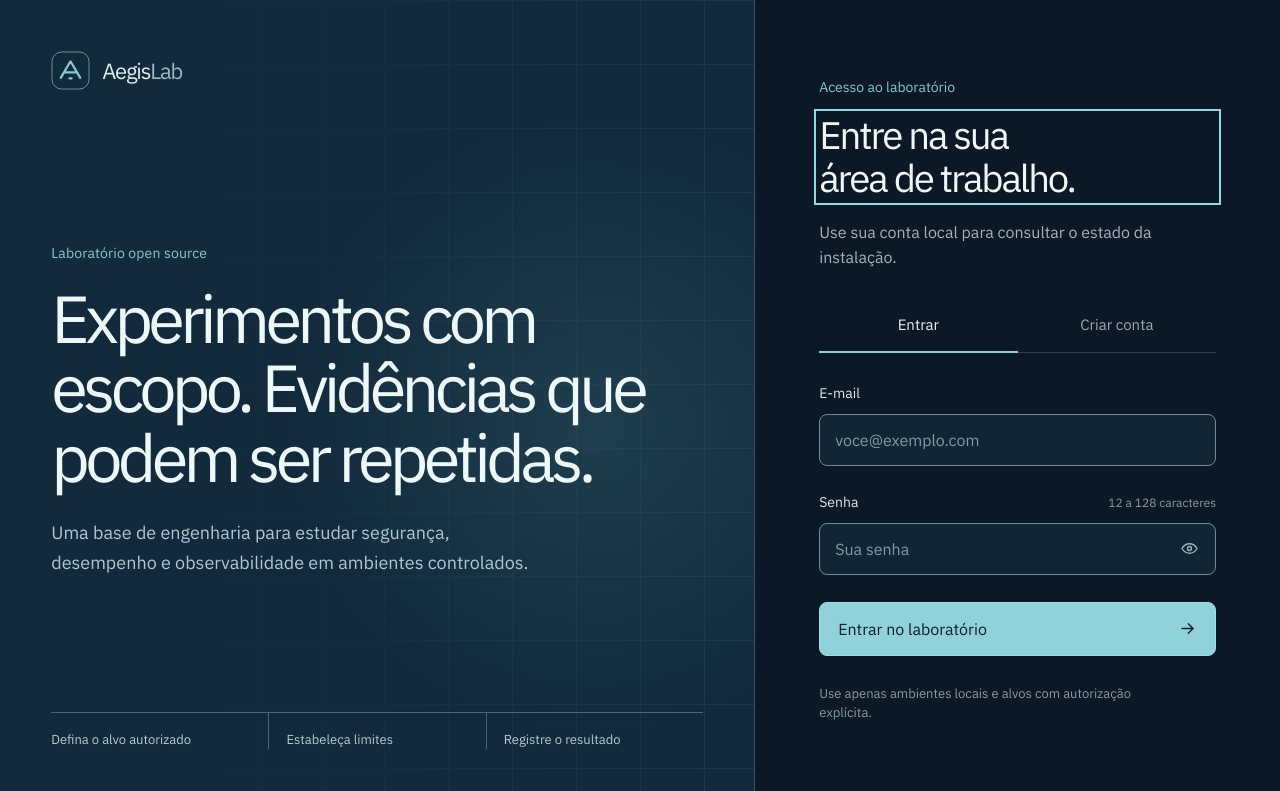
Test case: AegisLab interface › moves focus and updates the title after sign in and logout
Type "analista@example.test" into the field labelled "E-mail" at coordinates (1018, 440), box [819, 414, 1216, 466]
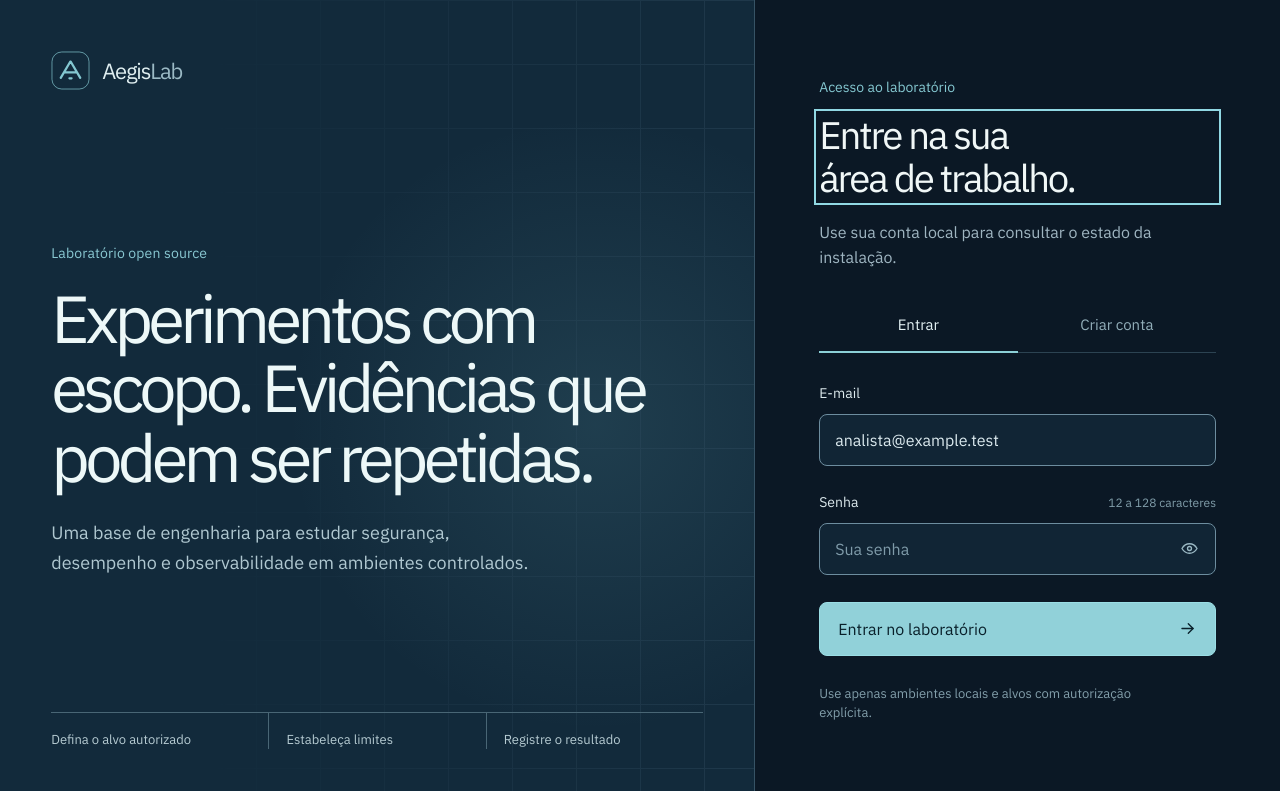
Type "strong-password-123" into the password field labelled "Senha" at coordinates (1018, 548), box [819, 522, 1216, 574]
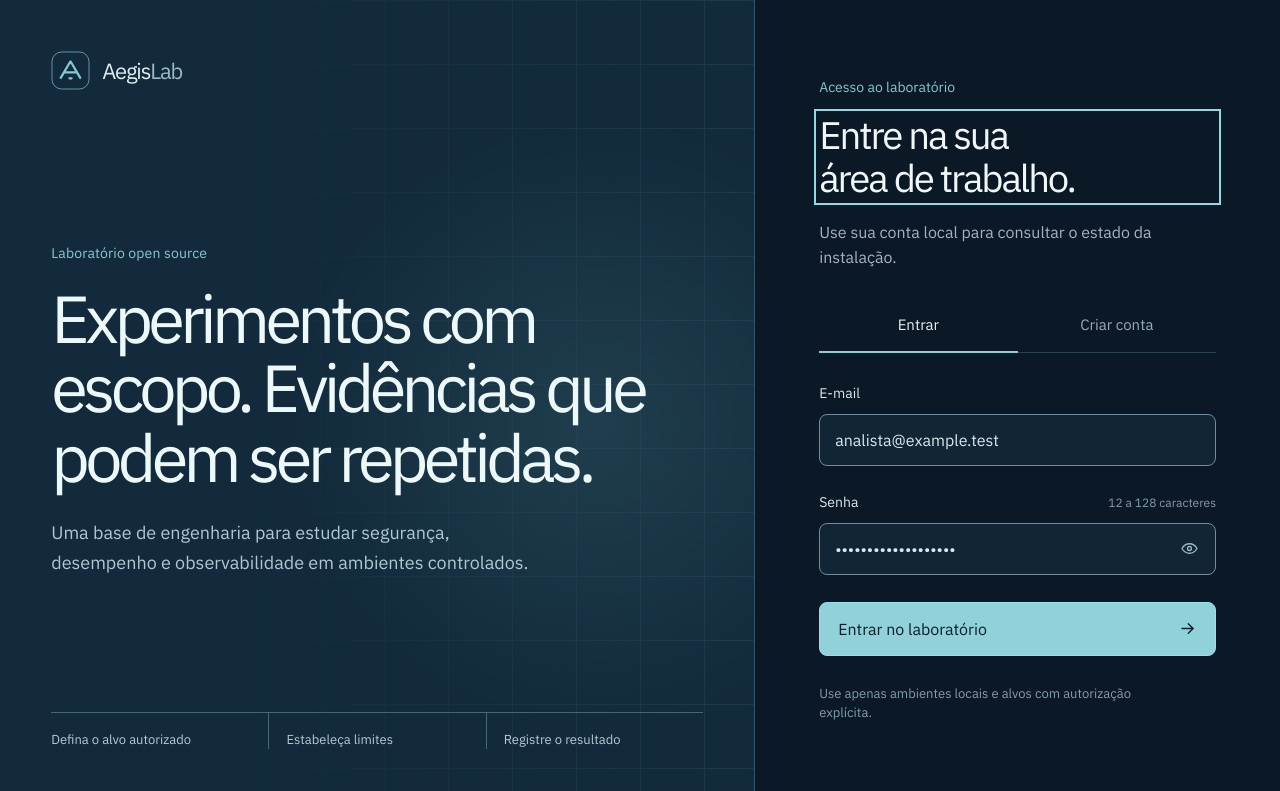
Click the button "Entrar no laboratório" at coordinates (913, 629), box [819, 602, 1216, 656]
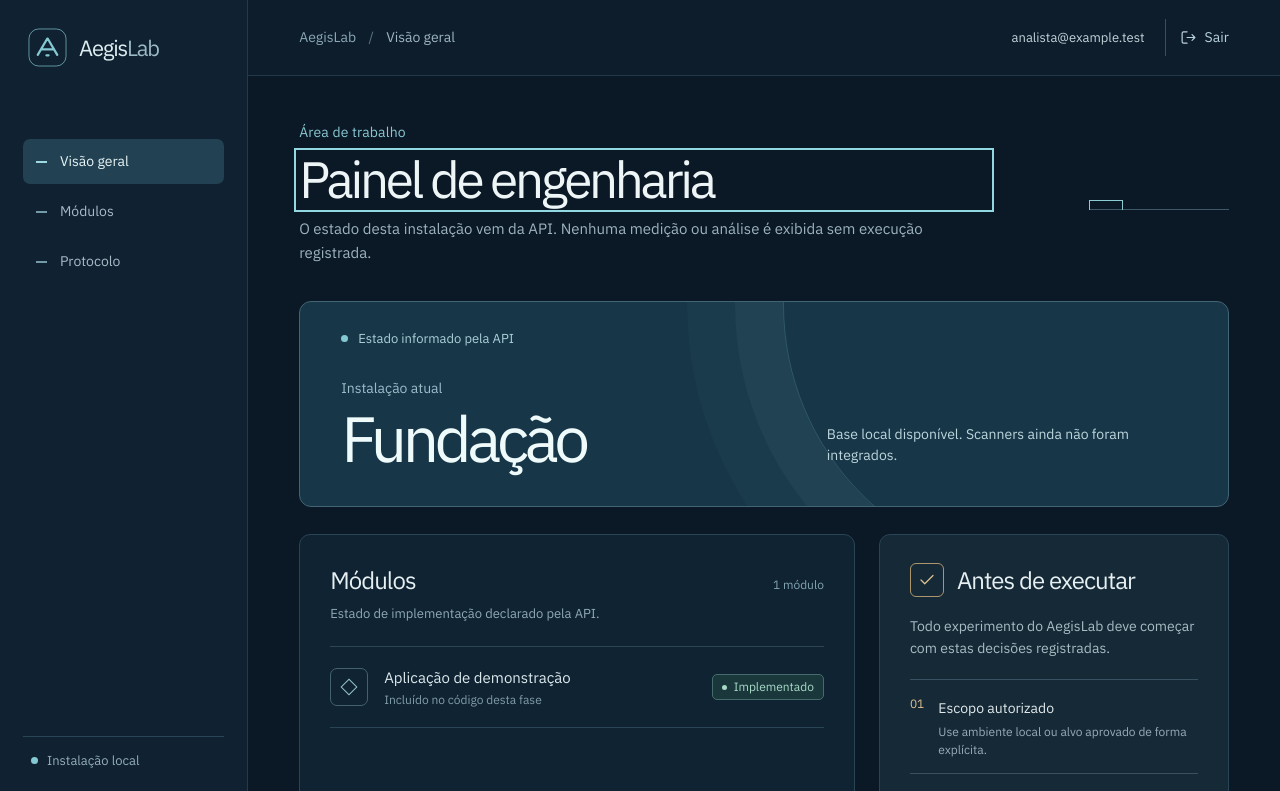
Expected: the text "1 módulo" is shown, [773, 576, 824, 594]
Expected: the heading "Fundação" is shown, [341, 407, 586, 470]
Click the button with aria-label "Sair da conta" at coordinates (1197, 38), box [1165, 19, 1229, 56]
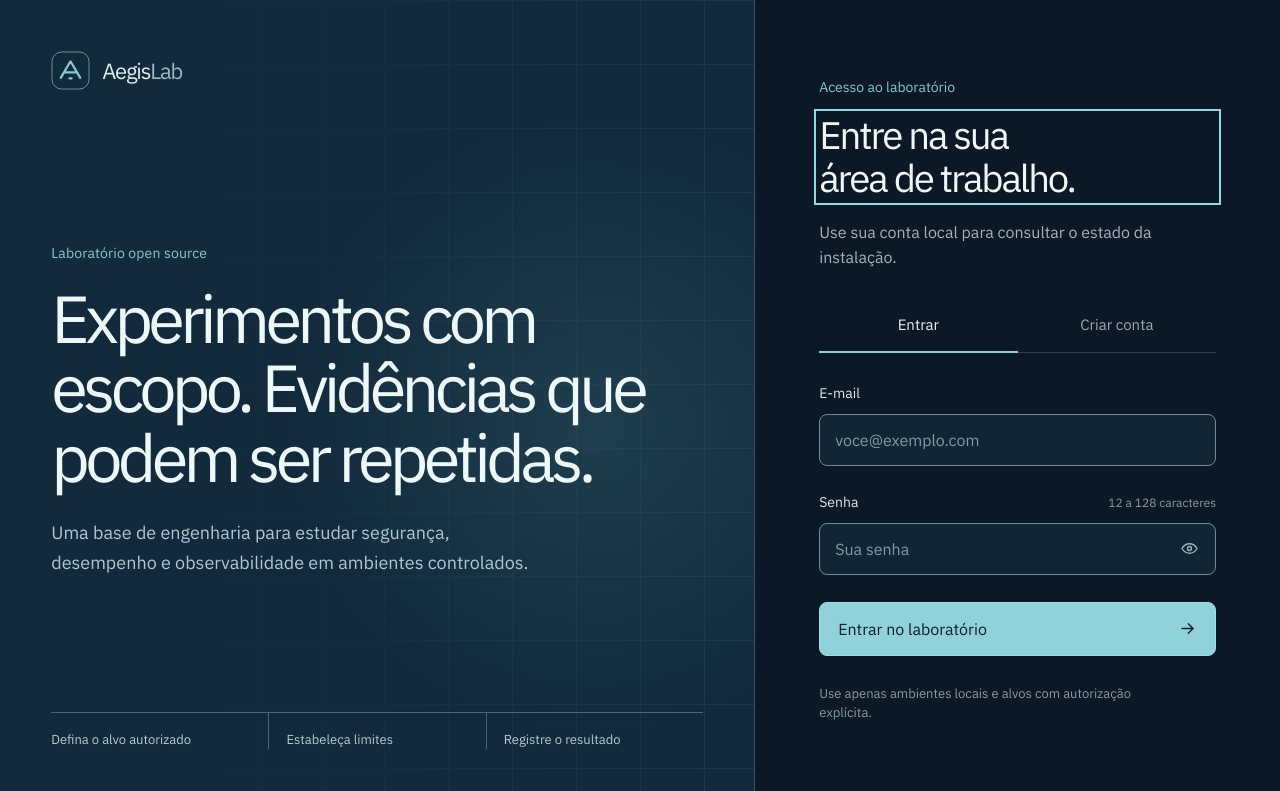
Expected: the heading "Entre na sua área de trabalho." is shown, [819, 110, 1075, 204]
